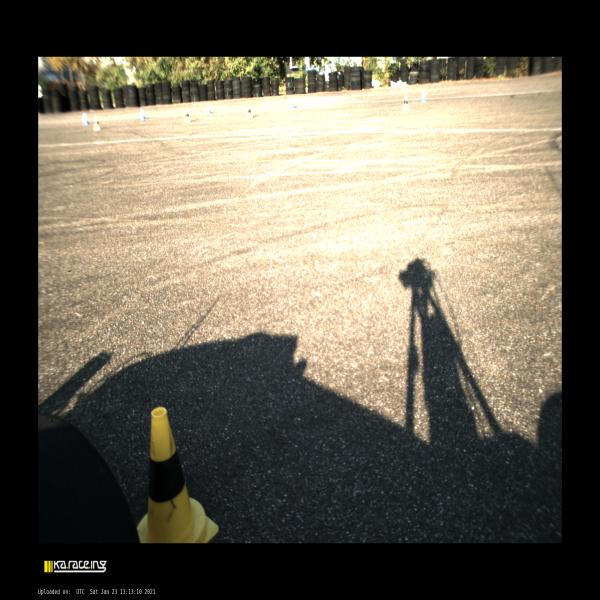blue_cone: (82, 113, 90, 125), (420, 89, 427, 102), (140, 108, 146, 120), (290, 97, 296, 108), (206, 104, 212, 114)
yellow_cone: (138, 407, 218, 543), (402, 95, 409, 111), (93, 116, 100, 131), (184, 109, 190, 123), (246, 105, 252, 119)
